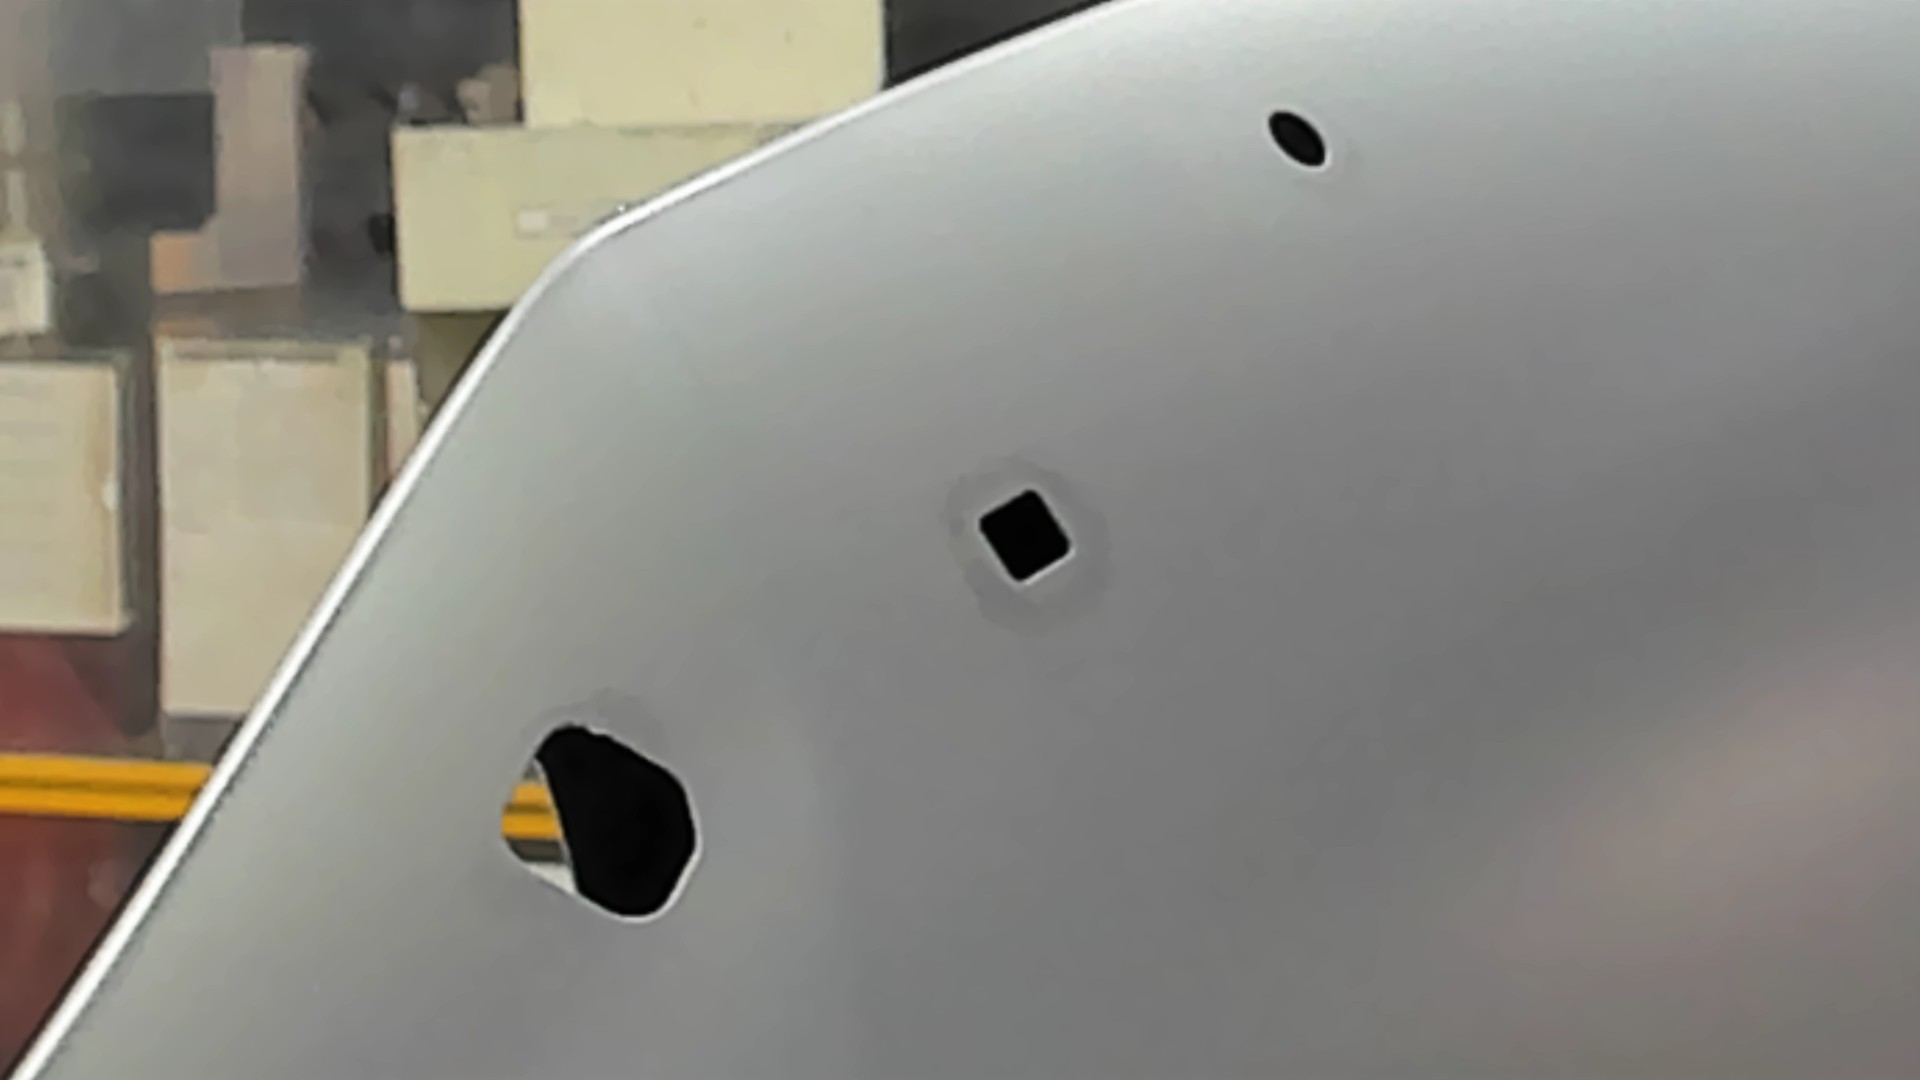chico: (1265, 103, 1332, 174)
grande: (496, 713, 705, 924)
mediano: (968, 477, 1083, 592)
